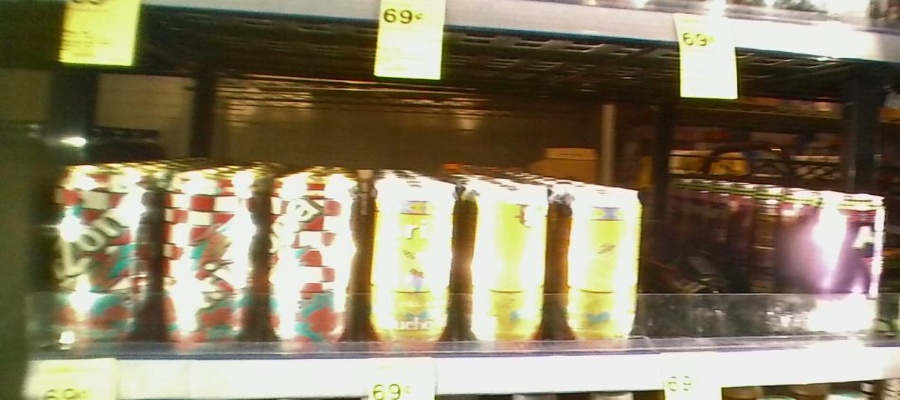bottle: (49, 161, 152, 347), (163, 166, 260, 344), (263, 174, 360, 350), (461, 168, 552, 353), (369, 171, 459, 345), (557, 175, 644, 344), (815, 186, 890, 335)
